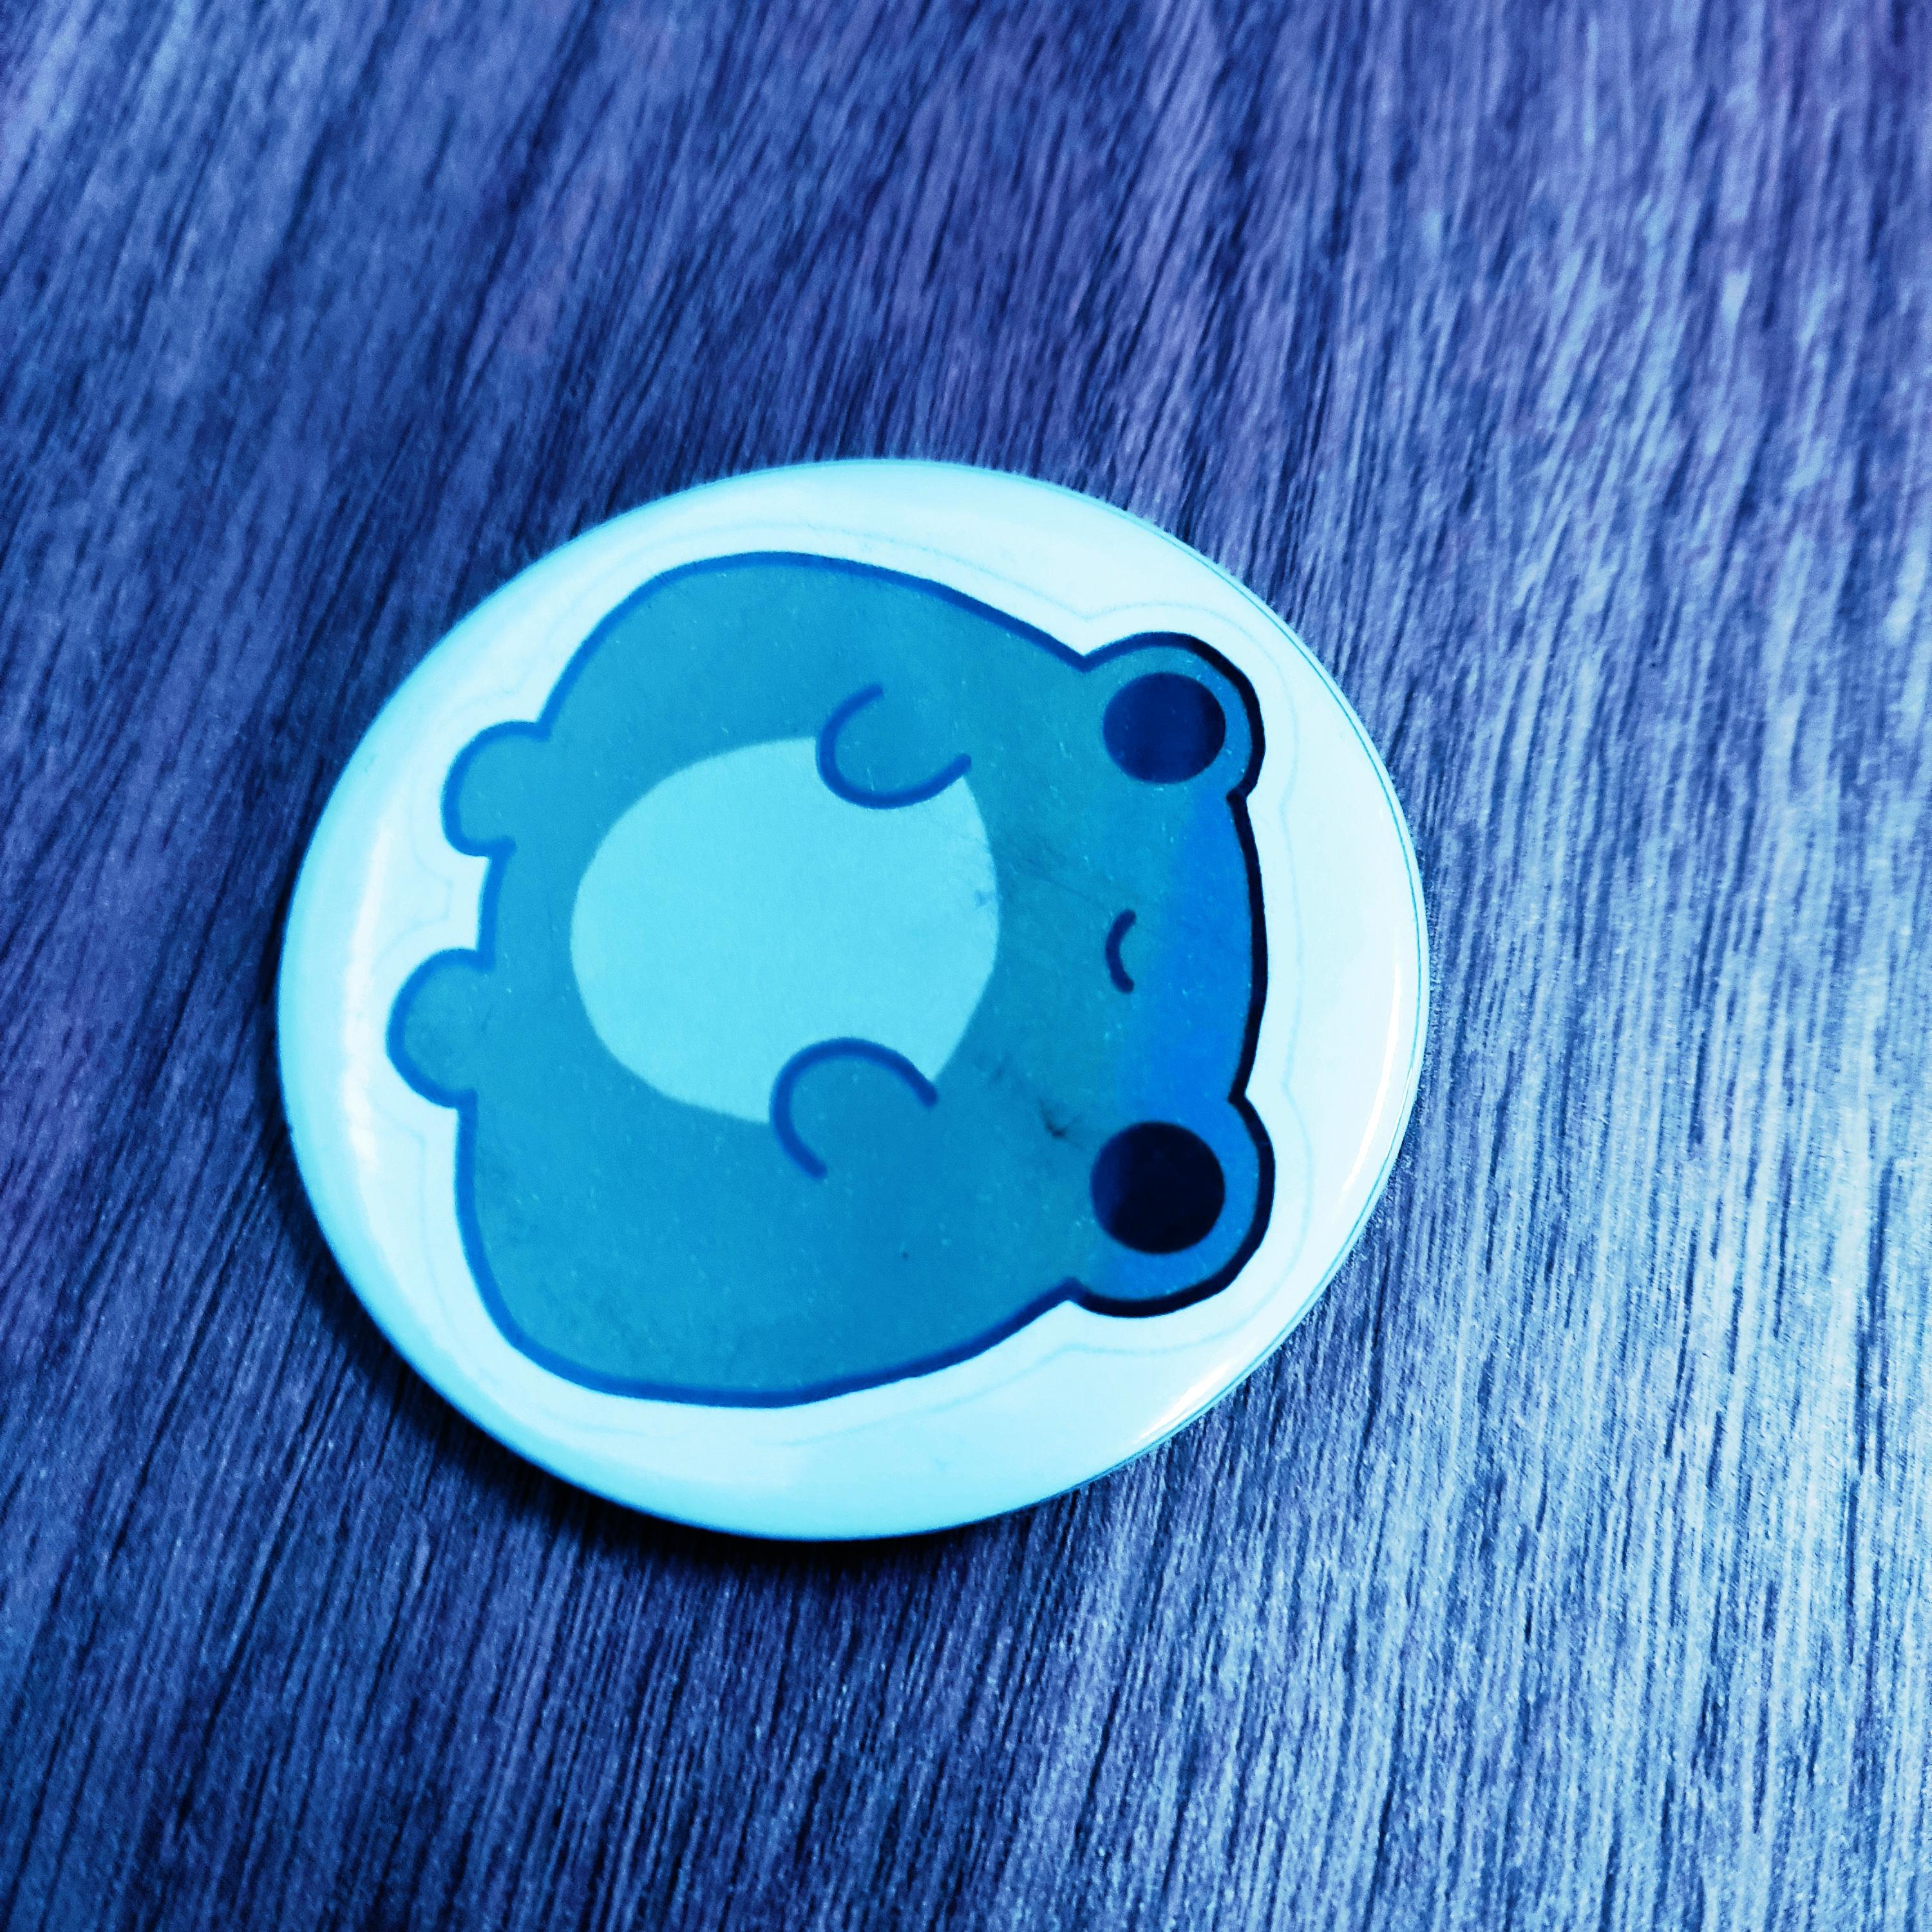pin: (235, 386, 1472, 1578)
